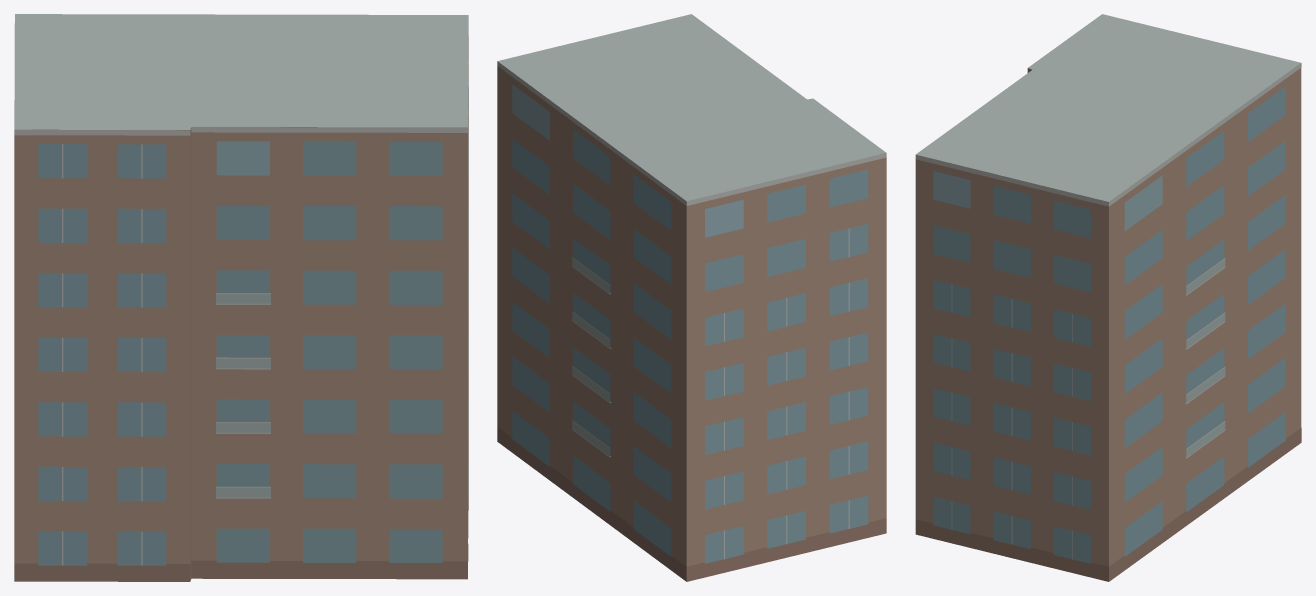
Rendered from survey-upis-32994559.glb.
The picture shows the model from 3 angles, left to right: view 1: azimuth 30°, elevation 25°; view 2: azimuth 150°, elevation 25°; view 3: azimuth 270°, elevation 25°; orthographic projection. The views are drawn at different scales.
Visible parts, largest first — view 1: survey-upis-32994559.tmp; view 2: survey-upis-32994559.tmp; view 3: survey-upis-32994559.tmp.
Part boxes in pixels (bbox=[...]): survey-upis-32994559.tmp: bbox=[14, 14, 468, 581]; survey-upis-32994559.tmp: bbox=[497, 14, 886, 581]; survey-upis-32994559.tmp: bbox=[915, 14, 1301, 581].
Bounding box in the file's own units: 21.13 × 19.9 × 18.33.
